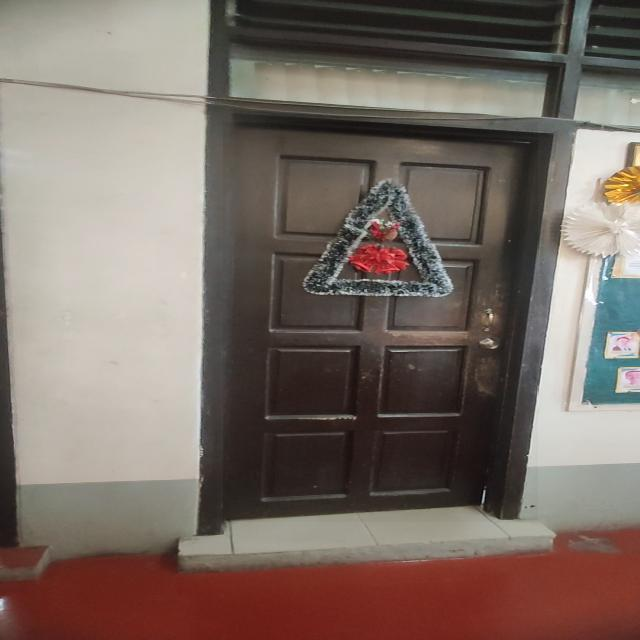door: (211, 123, 539, 542)
